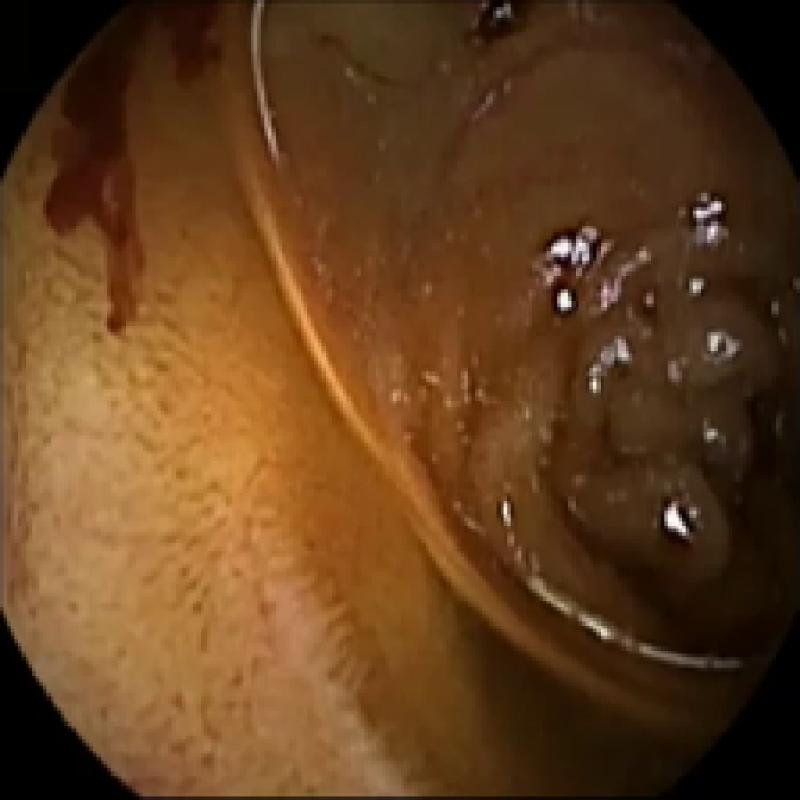bleeding: (43, 0, 246, 332)
